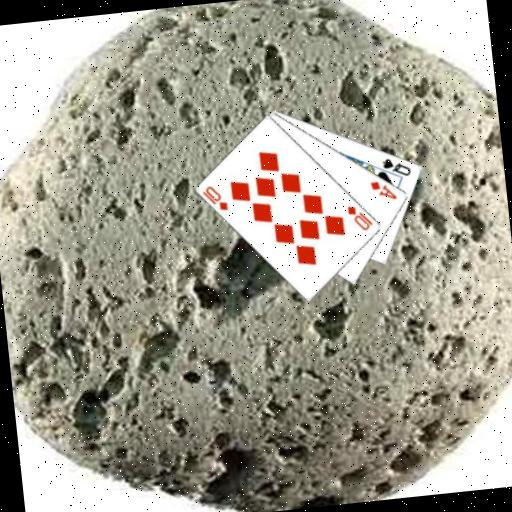10D: (198, 182, 230, 215), (345, 201, 375, 234)
AD: (368, 177, 399, 204)
QS: (379, 153, 413, 180)
